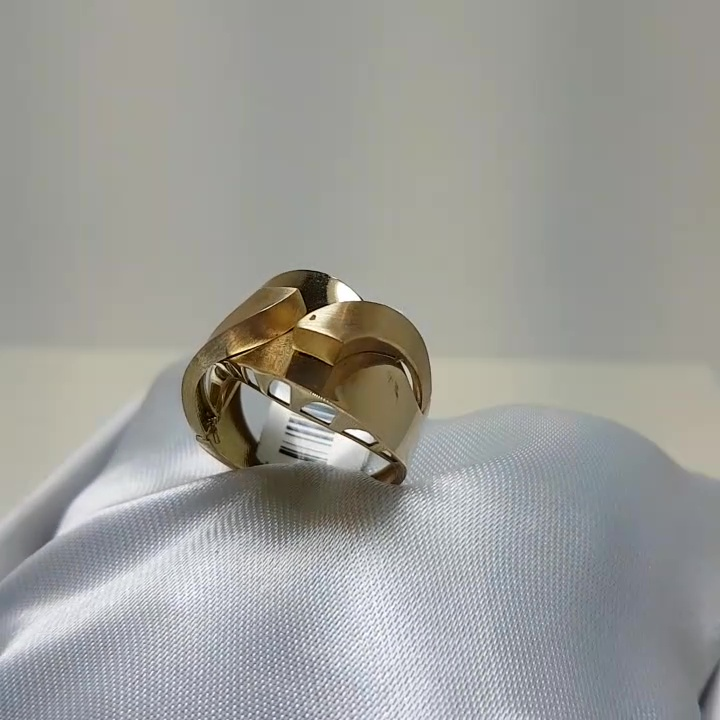Ring 4: (162, 254, 441, 495)
